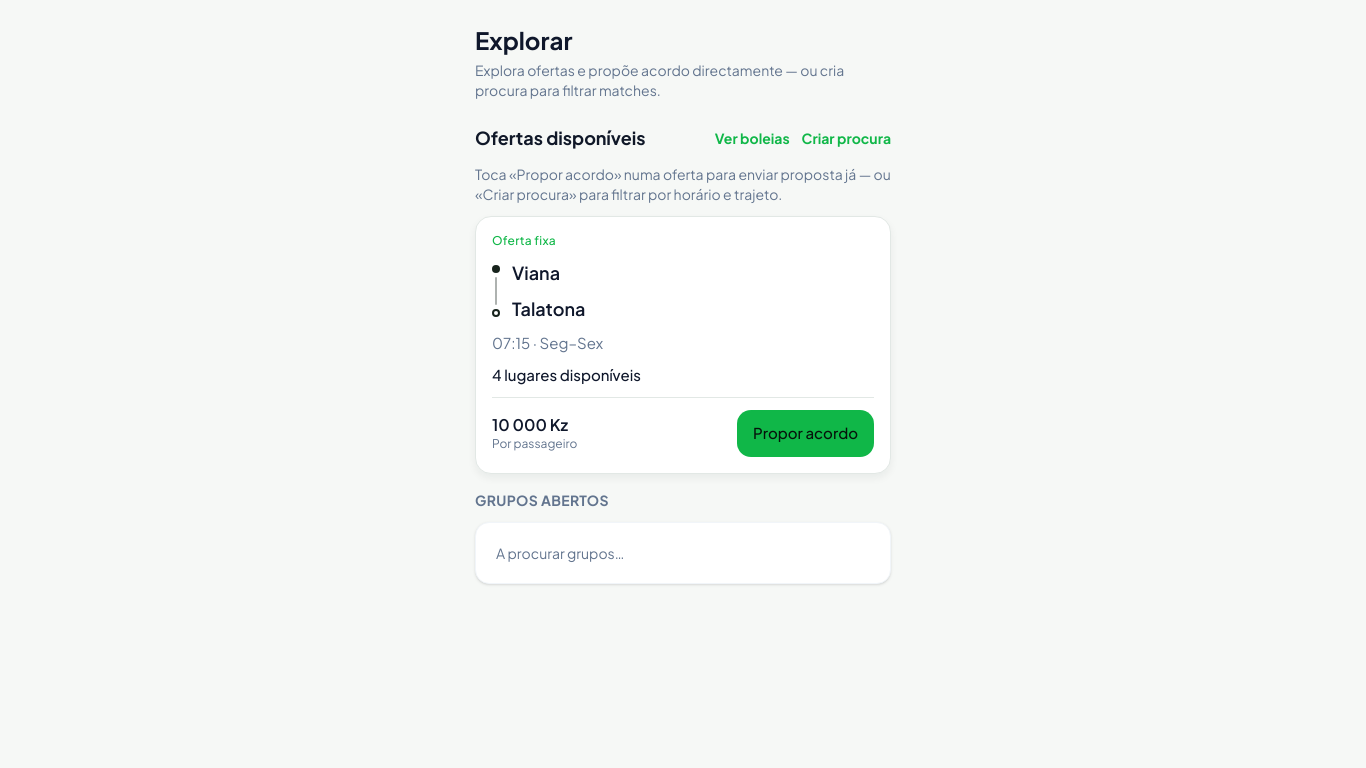
PassengerDashboard — marketplace › explorar autenticado: o CTA do detalhe abre a proposta
The image size is (1366, 768).
Click the button with test id "opportunity-open". click: {"x": 524, "y": 240}
box: left=492, top=233, right=874, bottom=385
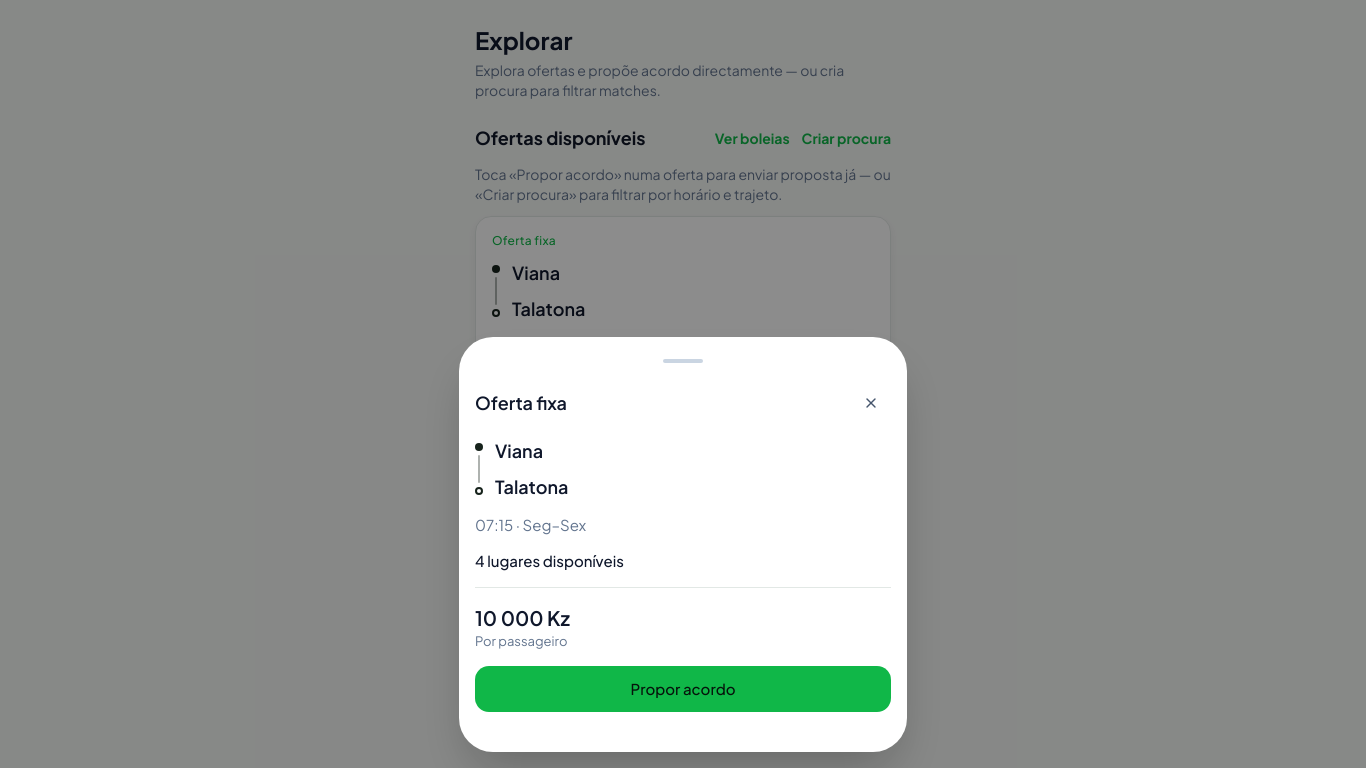
Click the button "Propor acordo". click: {"x": 683, "y": 689}
box: left=475, top=666, right=891, bottom=712
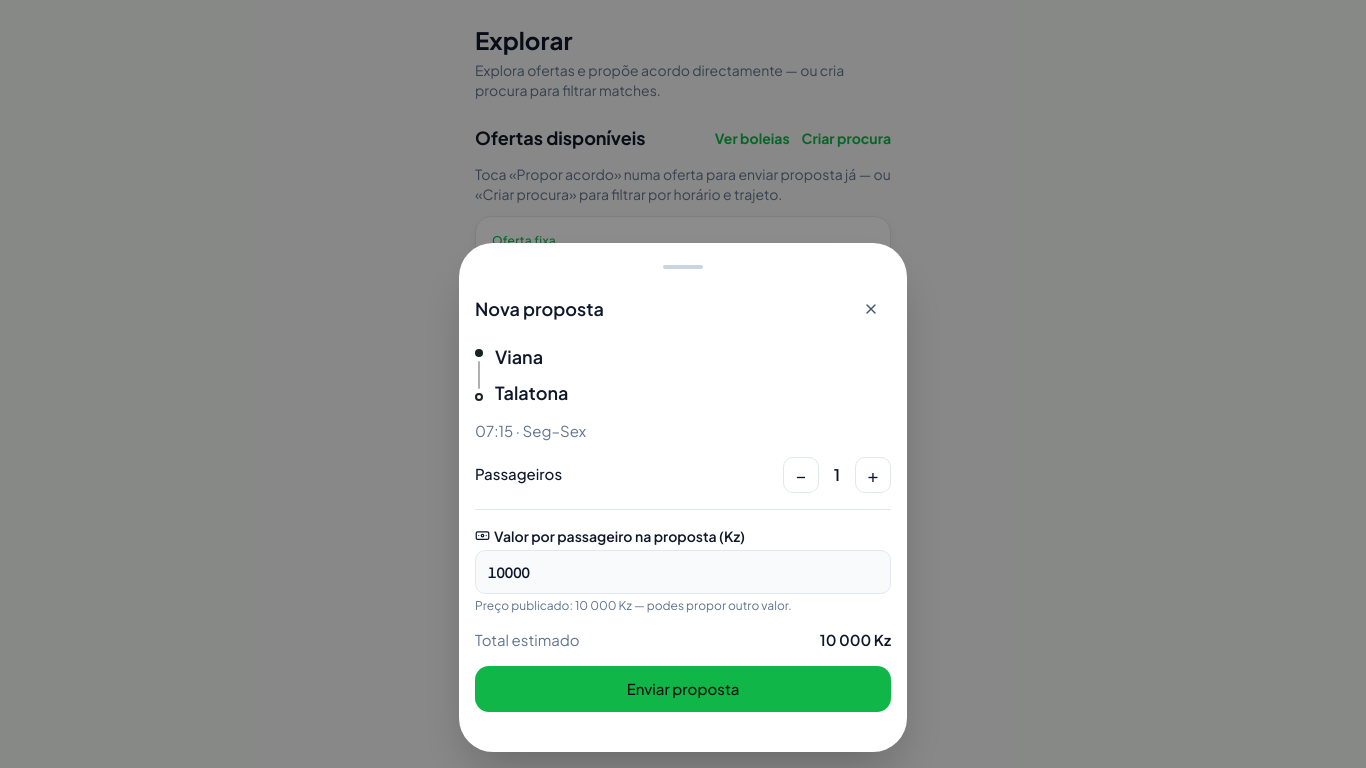
Expected: the element with test id "opportunity-proposal-sheet" is shown
Expected: the element with test id "opportunity-detail-sheet" is gone
